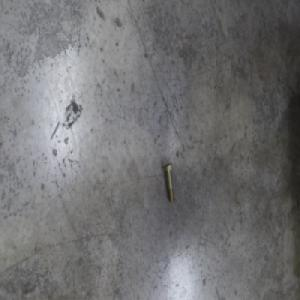Bolt: (163, 162, 175, 203)
